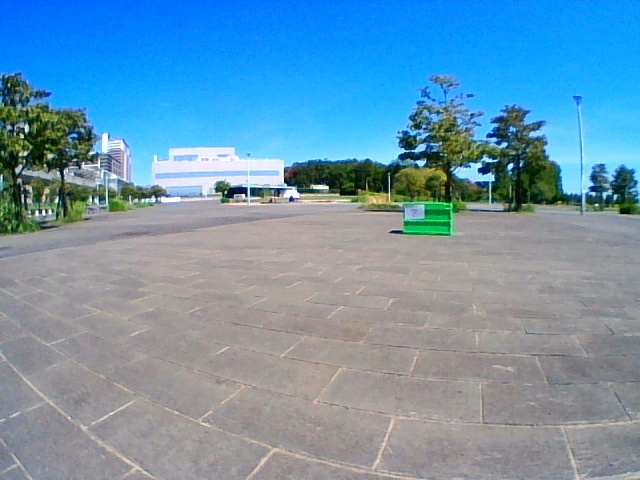green_box: (403, 201, 451, 235)
tag: (405, 205, 423, 219)
